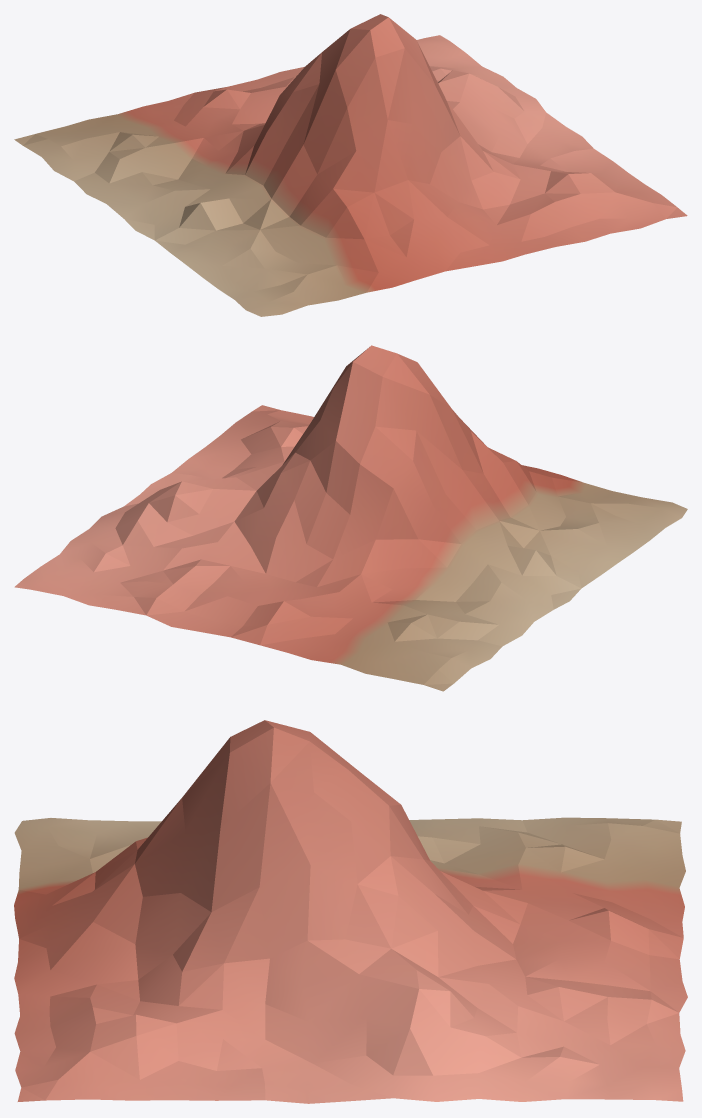
The model's file is hill.fbx.
The picture shows the model from 3 angles, top to bottom: view 1: azimuth 30°, elevation 25°; view 2: azimuth 150°, elevation 25°; view 3: azimuth 270°, elevation 25°; orthographic projection. The views are drawn at different scales.
Parts seen in each view (by area): view 1: hill; view 2: hill; view 3: hill.
Part boxes in pixels (left/top/right/bottom): hill: left=14, top=14, right=687, bottom=316; hill: left=14, top=345, right=687, bottom=691; hill: left=14, top=720, right=687, bottom=1103.
Bounding box in the file's own units: 5065 × 1993 × 5054.
